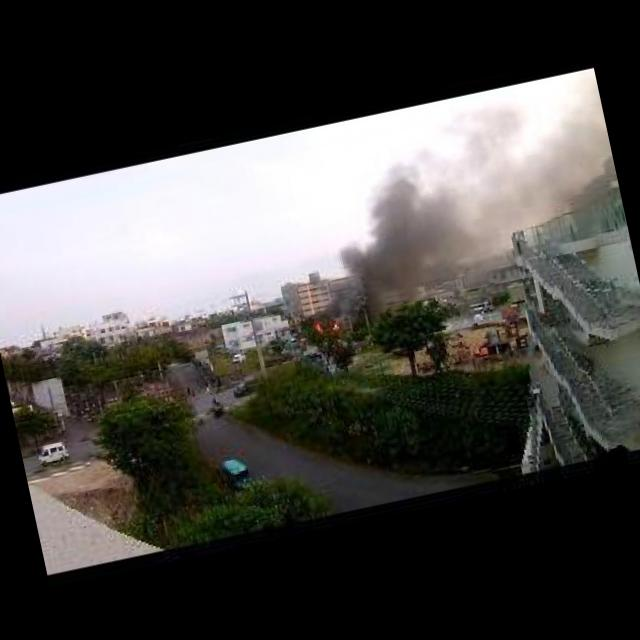fire: (329, 319, 342, 332), (314, 321, 324, 333)
smoke: (326, 167, 516, 303)
